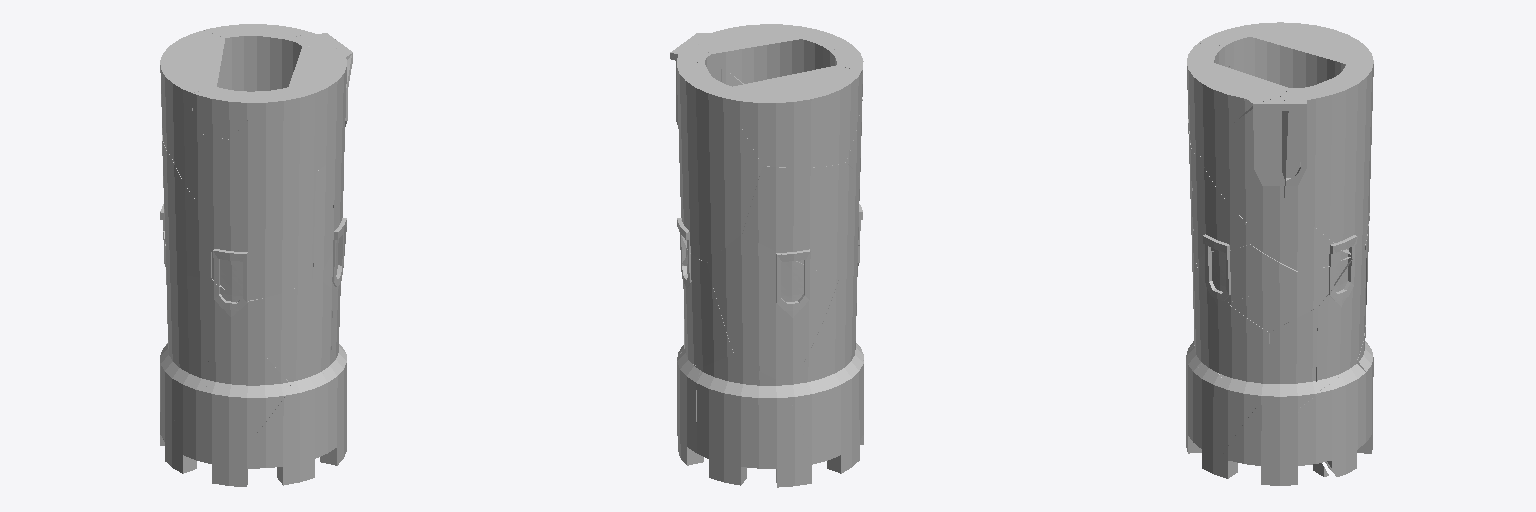
The model's file is destruction_tower_000003.obj.
The picture shows the model from 3 angles: view 1: azimuth 30°, elevation 25°; view 2: azimuth 150°, elevation 25°; view 3: azimuth 270°, elevation 25°; orthographic projection.
Parts seen in each view (by area): view 1: tower.001_cell.024_Mesh.024, tower.001_cell.028_Mesh.028, tower.001_cell.021_Mesh.021, tower.001_cell.006_Mesh.006, tower.001_cell.011_Mesh.011, tower.001_cell.013_Mesh.013, tower.001_cell.002_Mesh.002, tower.001_cell.015_Mesh.015, tower.001_cell.009_Mesh.009, tower.001_cell.017_Mesh.017, tower.001_cell.003_Mesh.003, tower.001_cell.014_Mesh.014 (+9 smaller); view 2: tower.001_cell.025_Mesh.025, tower.001_cell.017_Mesh.017, tower.001_cell.007_Mesh.007, tower.001_cell.015_Mesh.015, tower.001_cell.003_Mesh.003, tower.001_cell.028_Mesh.028, tower.001_cell.005_Mesh.005, tower.001_cell.012_Mesh.012, tower.001_cell.009_Mesh.009, tower.001_cell.029_Mesh.029, tower.001_cell.006_Mesh.006, tower.001_cell.026_Mesh.026 (+1 smaller); view 3: tower.001_cell.017_Mesh.017, tower.001_cell.020_Mesh.020, tower.001_cell.015_Mesh.015, tower.001_cell.028_Mesh.028, tower.001_cell.030_Mesh.030, tower.001_cell.029_Mesh.029, tower.001_cell_Mesh, tower.001_cell.012_Mesh.012, tower.001_cell.016_Mesh.016, tower.001_cell.027_Mesh.027, tower.001_cell.023_Mesh.023, tower.001_cell.026_Mesh.026 (+8 smaller).
Boxes of the visible parts, x1,y1,x2,y2 form: tower.001_cell.024_Mesh.024: [211, 175, 315, 301]; tower.001_cell.028_Mesh.028: [249, 46, 352, 170]; tower.001_cell.021_Mesh.021: [236, 279, 332, 384]; tower.001_cell.006_Mesh.006: [164, 389, 255, 486]; tower.001_cell.011_Mesh.011: [256, 374, 329, 485]; tower.001_cell.013_Mesh.013: [206, 321, 290, 433]; tower.001_cell.002_Mesh.002: [230, 110, 317, 205]; tower.001_cell.015_Mesh.015: [160, 30, 224, 156]; tower.001_cell.009_Mesh.009: [167, 271, 236, 362]; tower.001_cell.017_Mesh.017: [204, 24, 311, 91]; tower.001_cell.003_Mesh.003: [160, 135, 211, 277]; tower.001_cell.014_Mesh.014: [172, 131, 229, 216]; tower.001_cell.025_Mesh.025: [707, 234, 837, 381]; tower.001_cell.017_Mesh.017: [677, 58, 762, 262]; tower.001_cell.007_Mesh.007: [696, 355, 814, 487]; tower.001_cell.015_Mesh.015: [727, 65, 861, 167]; tower.001_cell.003_Mesh.003: [743, 162, 859, 279]; tower.001_cell.028_Mesh.028: [697, 24, 848, 83]; tower.001_cell.005_Mesh.005: [784, 338, 863, 463]; tower.001_cell.012_Mesh.012: [680, 253, 733, 367]; tower.001_cell.009_Mesh.009: [802, 246, 859, 365]; tower.001_cell.029_Mesh.029: [677, 355, 700, 465]; tower.001_cell.006_Mesh.006: [827, 356, 863, 473]; tower.001_cell.026_Mesh.026: [670, 46, 720, 124]; tower.001_cell.017_Mesh.017: [1314, 60, 1373, 256]; tower.001_cell.020_Mesh.020: [1200, 97, 1288, 225]; tower.001_cell.015_Mesh.015: [1250, 22, 1372, 87]; tower.001_cell.028_Mesh.028: [1187, 43, 1289, 154]; tower.001_cell.030_Mesh.030: [1212, 405, 1326, 485]; tower.001_cell.029_Mesh.029: [1297, 361, 1365, 476]; tower.001_cell_Mesh: [1209, 295, 1269, 405]; tower.001_cell.012_Mesh.012: [1316, 246, 1365, 388]; tower.001_cell.016_Mesh.016: [1266, 308, 1320, 409]; tower.001_cell.027_Mesh.027: [1228, 257, 1353, 332]; tower.001_cell.023_Mesh.023: [1195, 364, 1256, 472]; tower.001_cell.026_Mesh.026: [1281, 86, 1313, 225].
Size of the model in its own units: 44.3 by 97.32 by 42.94.